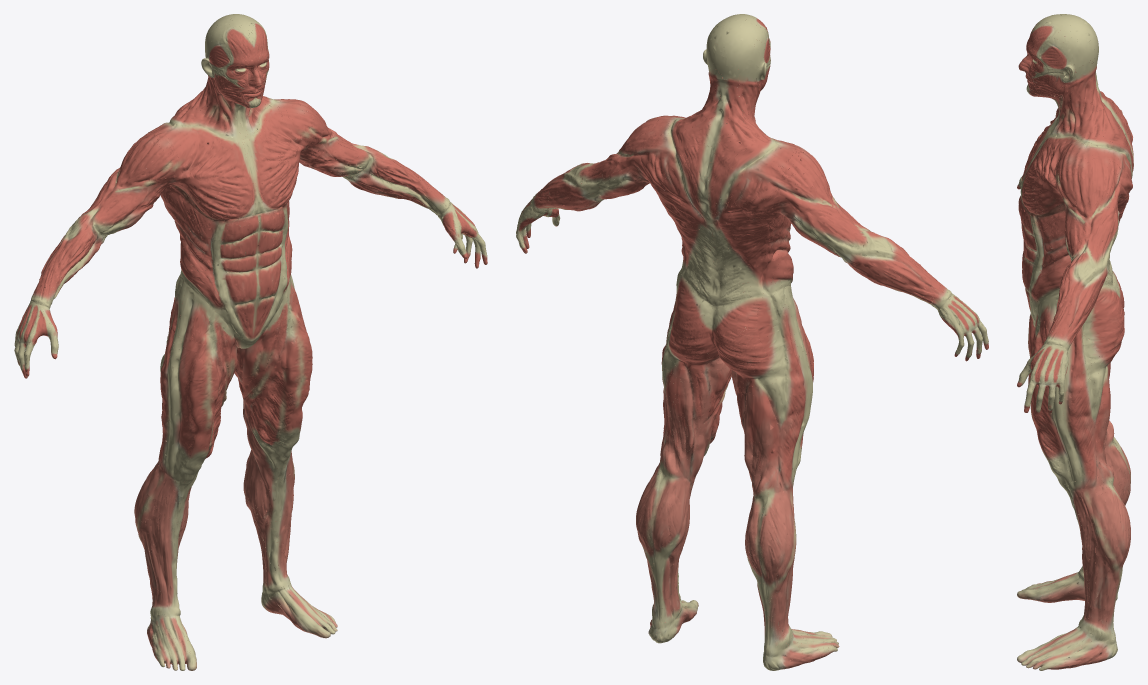
Rendered from mg-male-anatomy-web-v1.glb.
3 views of the same model, side by side, from view 1: azimuth 30°, elevation 25°; view 2: azimuth 150°, elevation 25°; view 3: azimuth 270°, elevation 25° (orthographic).
Parts seen in each view (by area): view 1: male_zbrush_male_zbrush_0.001, male_zbrush_male_zbrush_0.013, male_zbrush_male_zbrush_0.011, male_zbrush_male_zbrush_0.012, male_zbrush_male_zbrush_0.003, male_zbrush_male_zbrush_0.010, male_zbrush_male_zbrush_0.009, male_zbrush, male_zbrush_male_zbrush_0.008, male_zbrush_male_zbrush_0.004, male_zbrush_male_zbrush_0.007, male_zbrush_male_zbrush_0.002 (+5 smaller); view 2: male_zbrush_male_zbrush_0.013, male_zbrush_male_zbrush_0.011, male_zbrush_male_zbrush_0.012, male_zbrush_male_zbrush_0.008, male_zbrush_male_zbrush_0.004, male_zbrush, male_zbrush_male_zbrush_0.009, male_zbrush_male_zbrush_0.002, male_zbrush_male_zbrush_0.010, male_zbrush_male_zbrush_0.005, male_zbrush_male_zbrush_0.001, male_zbrush_male_zbrush_0.016 (+4 smaller); view 3: male_zbrush_male_zbrush_0.003, male_zbrush_male_zbrush_0.004, male_zbrush_male_zbrush_0.009, male_zbrush_male_zbrush_0.008, male_zbrush_male_zbrush_0.002, male_zbrush_male_zbrush_0.007, male_zbrush_male_zbrush_0.001, male_zbrush_male_zbrush_0.005, male_zbrush_male_zbrush_0.006, male_zbrush, male_zbrush_male_zbrush_0.010, male_zbrush_male_zbrush_0.011 (+2 smaller).
Boxes of the visible parts, left/top/right/bottom form: male_zbrush_male_zbrush_0.001: left=173, top=64, right=312, bottom=378; male_zbrush_male_zbrush_0.013: left=32, top=76, right=254, bottom=668; male_zbrush_male_zbrush_0.011: left=115, top=183, right=236, bottom=552; male_zbrush_male_zbrush_0.012: left=23, top=130, right=178, bottom=670; male_zbrush_male_zbrush_0.003: left=243, top=96, right=487, bottom=263; male_zbrush_male_zbrush_0.010: left=134, top=280, right=227, bottom=658; male_zbrush_male_zbrush_0.009: left=148, top=98, right=400, bottom=670; male_zbrush: left=187, top=14, right=368, bottom=347; male_zbrush_male_zbrush_0.008: left=161, top=121, right=334, bottom=638; male_zbrush_male_zbrush_0.004: left=243, top=393, right=305, bottom=616; male_zbrush_male_zbrush_0.007: left=237, top=21, right=397, bottom=638; male_zbrush_male_zbrush_0.002: left=230, top=85, right=485, bottom=403; male_zbrush_male_zbrush_0.013: left=709, top=82, right=943, bottom=667; male_zbrush_male_zbrush_0.011: left=731, top=259, right=906, bottom=589; male_zbrush_male_zbrush_0.012: left=747, top=147, right=969, bottom=647; male_zbrush_male_zbrush_0.008: left=636, top=158, right=789, bottom=642; male_zbrush_male_zbrush_0.004: left=636, top=365, right=723, bottom=643; male_zbrush: left=533, top=14, right=790, bottom=358; male_zbrush_male_zbrush_0.009: left=543, top=102, right=838, bottom=659; male_zbrush_male_zbrush_0.002: left=518, top=54, right=730, bottom=411; male_zbrush_male_zbrush_0.010: left=745, top=277, right=827, bottom=670; male_zbrush_male_zbrush_0.005: left=516, top=136, right=724, bottom=470; male_zbrush_male_zbrush_0.001: left=666, top=83, right=805, bottom=400; male_zbrush_male_zbrush_0.016: left=538, top=45, right=988, bottom=667; male_zbrush_male_zbrush_0.003: left=1017, top=117, right=1121, bottom=412; male_zbrush_male_zbrush_0.004: left=1032, top=379, right=1130, bottom=661; male_zbrush_male_zbrush_0.009: left=1017, top=102, right=1133, bottom=602; male_zbrush_male_zbrush_0.008: left=1017, top=142, right=1133, bottom=669; male_zbrush_male_zbrush_0.002: left=1017, top=41, right=1124, bottom=422; male_zbrush_male_zbrush_0.007: left=1017, top=21, right=1130, bottom=670; male_zbrush_male_zbrush_0.001: left=1018, top=58, right=1127, bottom=385; male_zbrush_male_zbrush_0.005: left=1018, top=141, right=1132, bottom=500; male_zbrush_male_zbrush_0.006: left=1019, top=22, right=1098, bottom=393; male_zbrush: left=1018, top=14, right=1127, bottom=345; male_zbrush_male_zbrush_0.010: left=1028, top=314, right=1130, bottom=600; male_zbrush_male_zbrush_0.011: left=1028, top=329, right=1130, bottom=502.
Size of the model in its own units: 2.19 by 2.82 by 0.4859.
